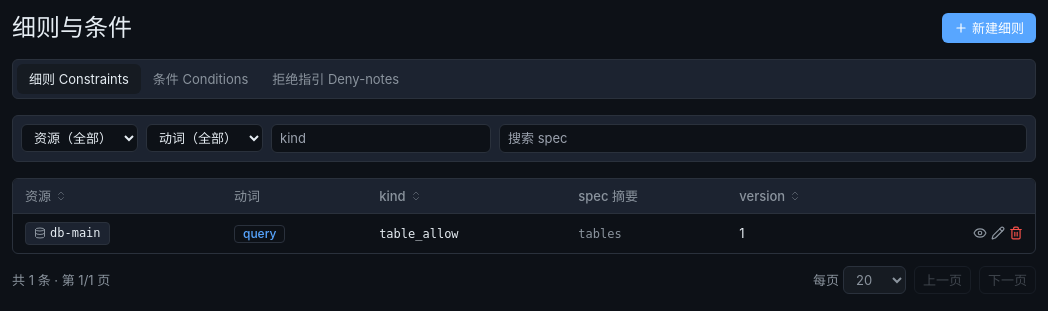
Test case: ConstraintsPage — 正常渲染与段切换 › deny-notes segment shows the note VERBATIM (== operator_note, 公理六)
Expected: the text "table_allow" is shown, [379,227,459,241]
Click the tab "拒绝指引 Deny-notes": (336,79) [260,64,411,94]
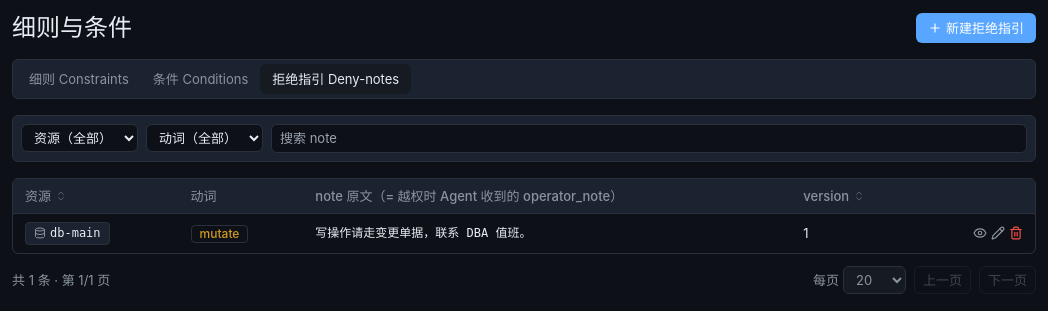
Expected: the text "写操作请走变更单据，联系 DBA 值班。" is shown, [315,226,532,240]
Expected: the column heading "note 原文（= 越权时 Agent 收到的 operator_note）" is shown, [303,179,791,213]
